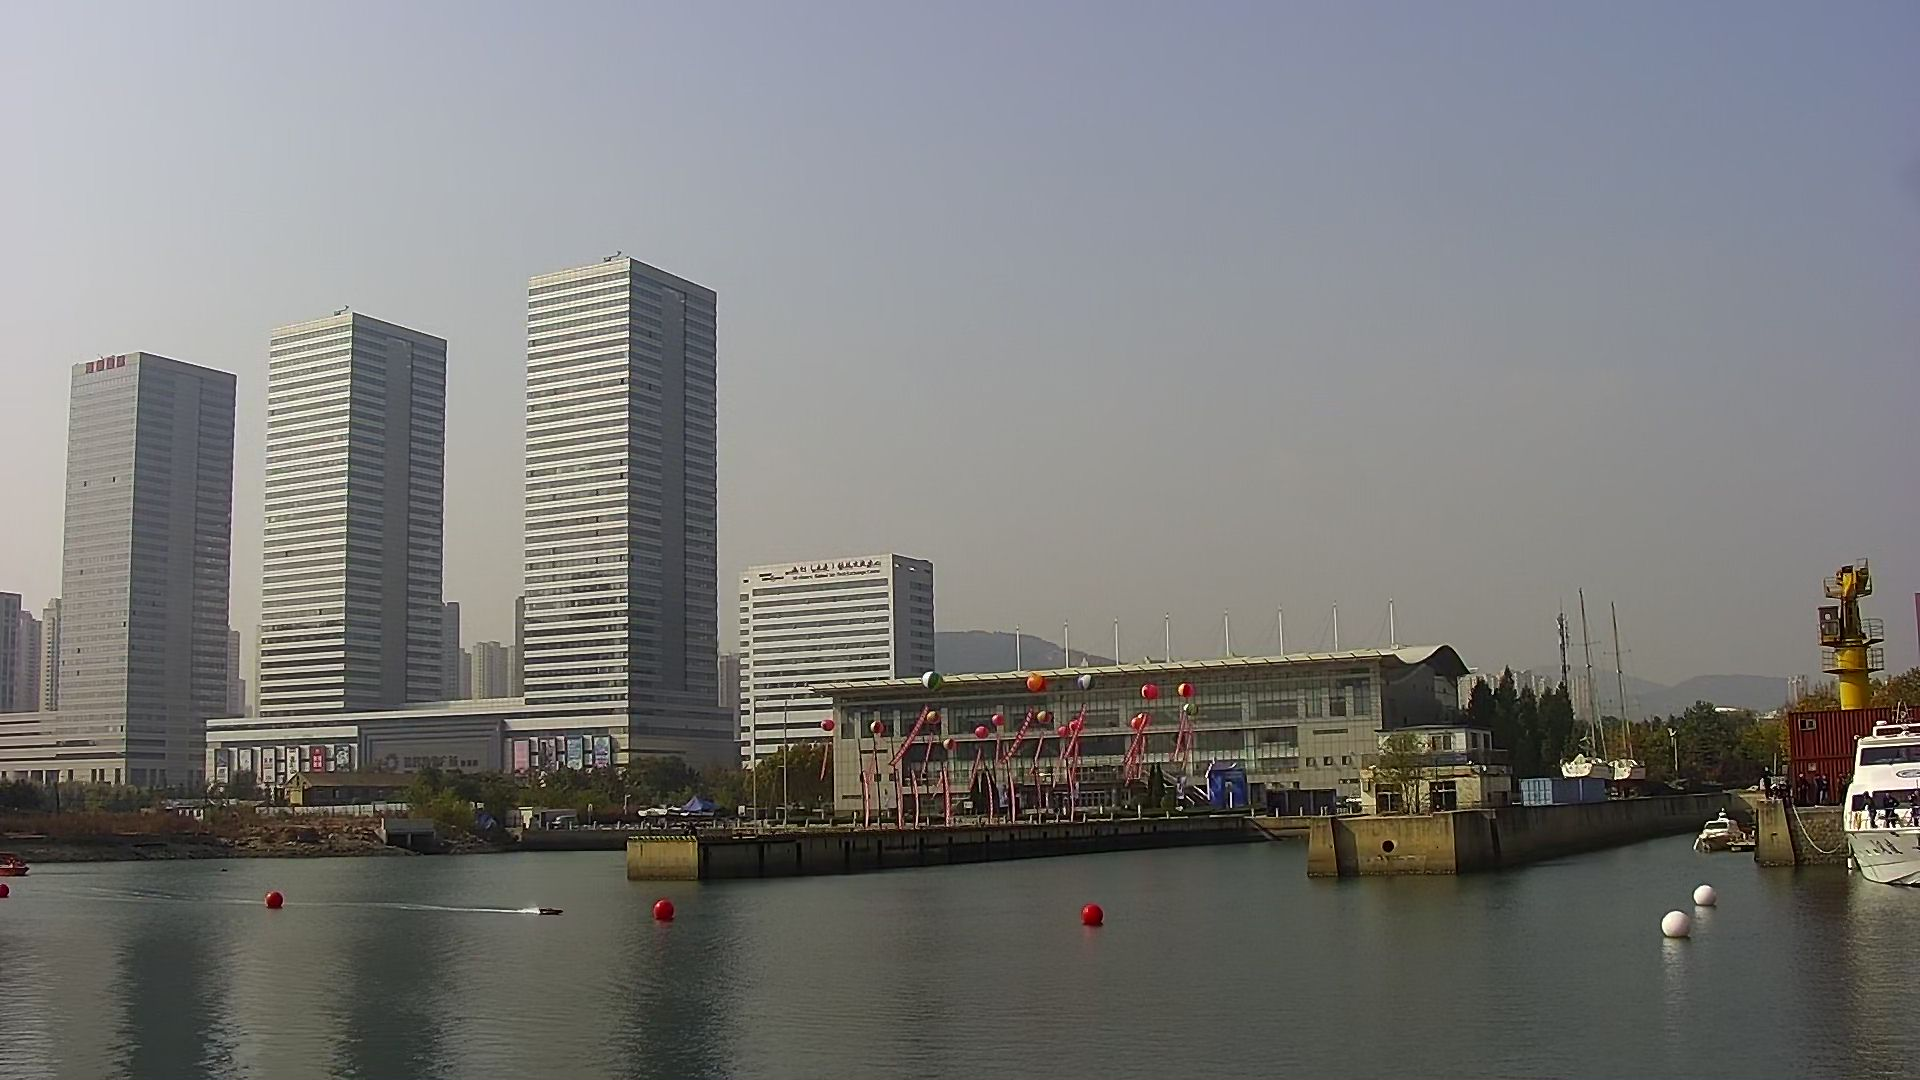ball: (1659, 911, 1698, 939), (650, 894, 674, 922), (1083, 898, 1106, 926), (1691, 882, 1718, 906), (261, 887, 286, 911)
boat: (533, 903, 567, 916)
ship: (1697, 810, 1739, 849)
